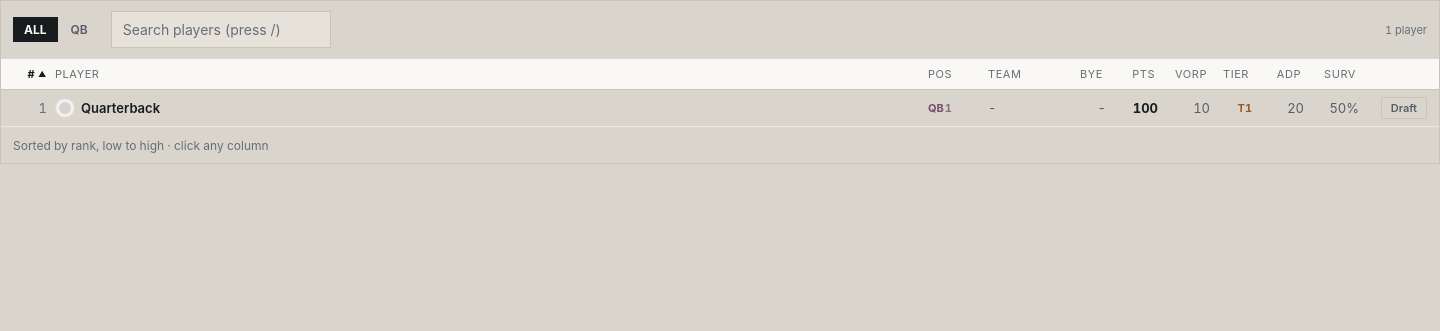
Scenario: Board › explains an empty search result
Type "missing" into the field labelled "Search players" at (221, 30), box [111,11,331,48]
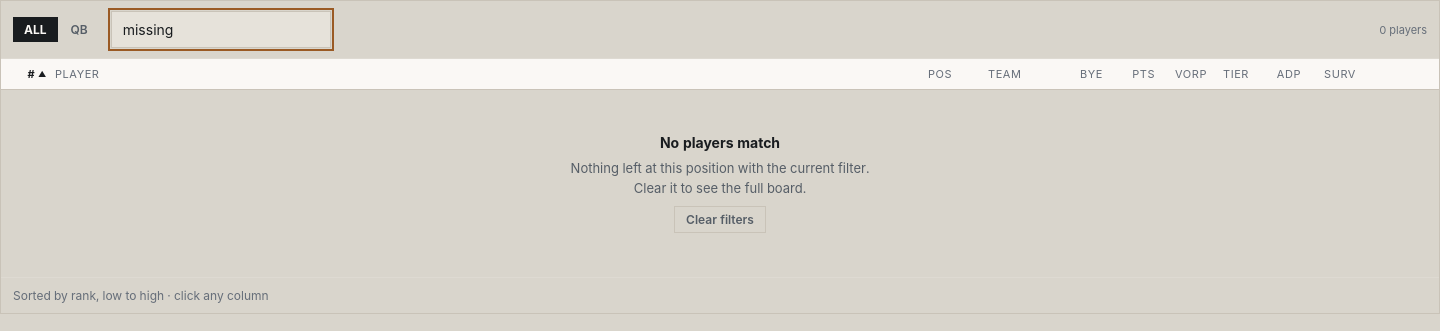
Expected: the text "No players match" is shown, [660,134,780,151]
Expected: the text "0 players" is shown, [1379,22,1427,36]
